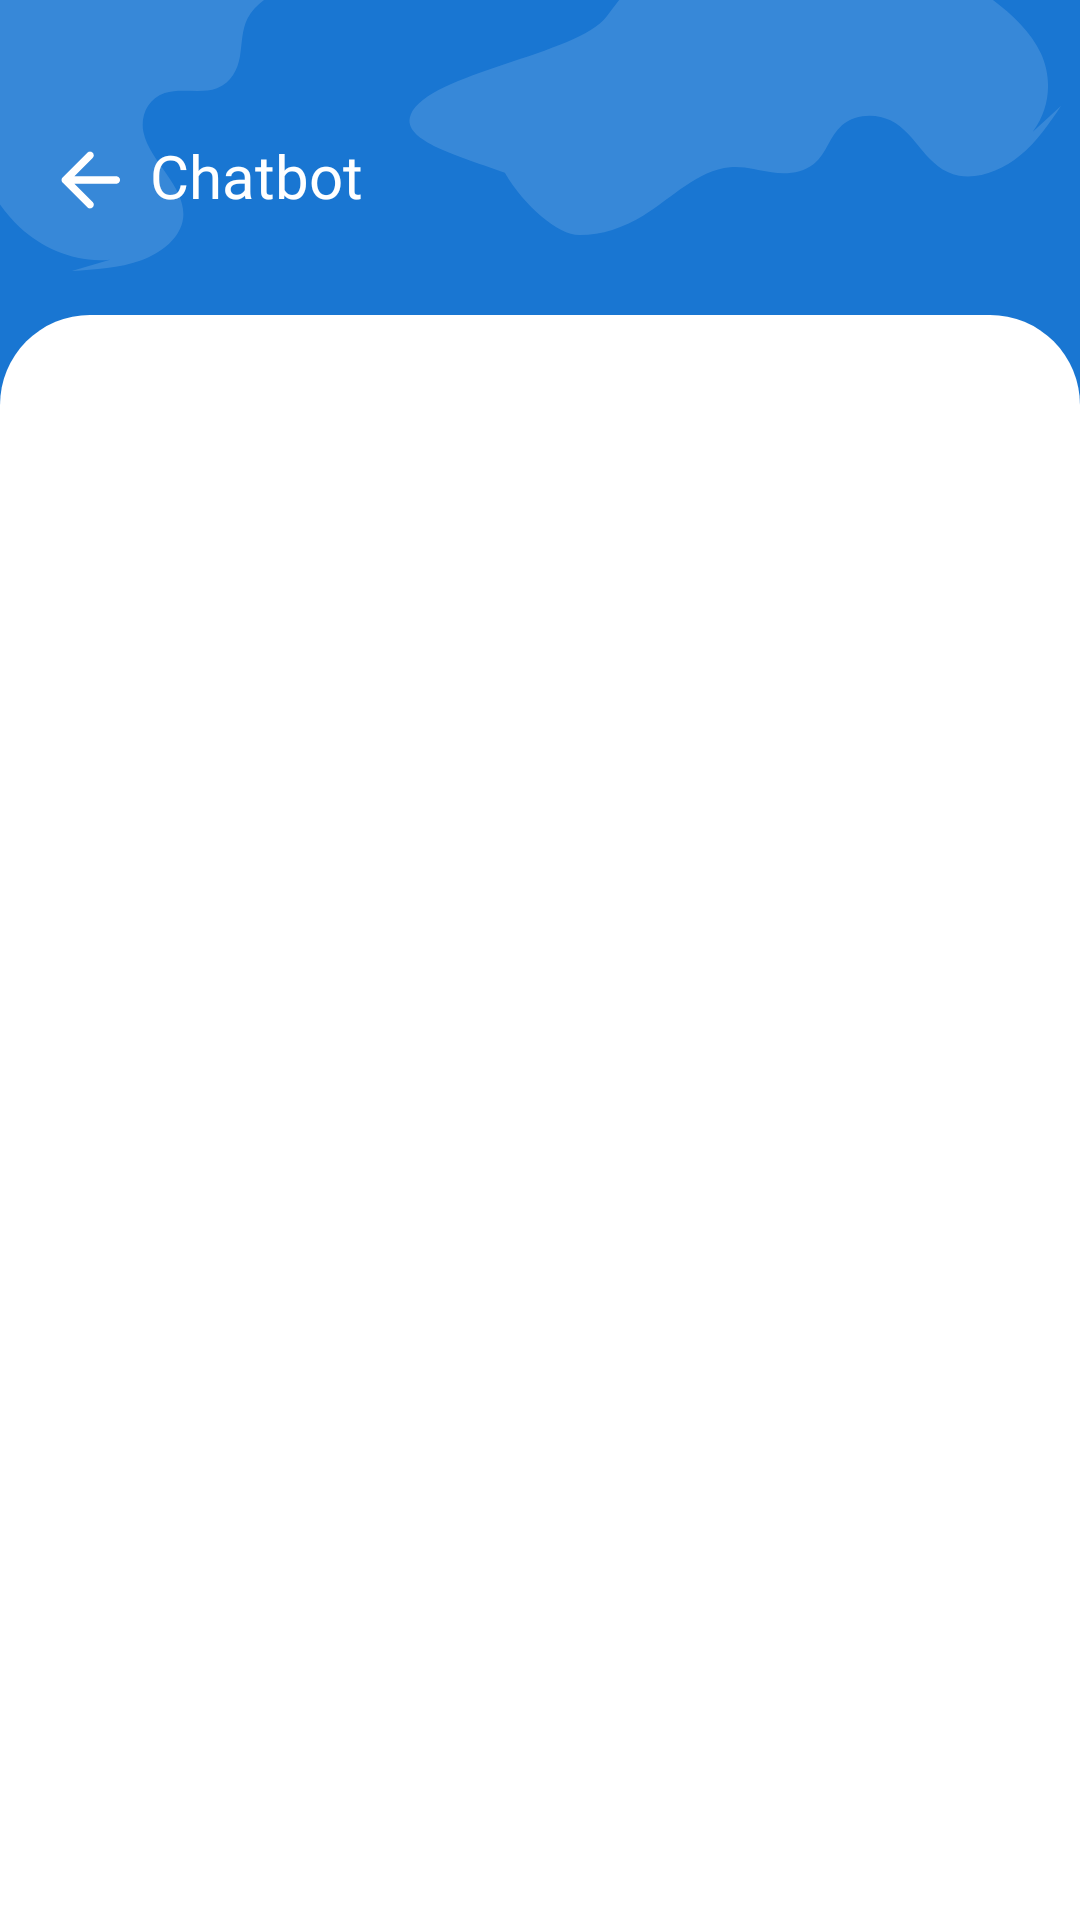

Where icons sit on this 1080×1920 app screen, as box=[x1, y1, x2, y2]:
Tombol kembali: box=[61, 151, 120, 209]
